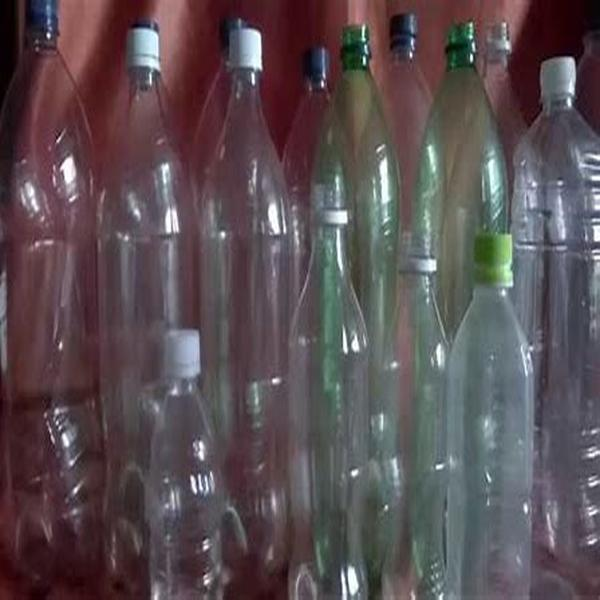tutuma: (274, 172, 379, 600), (438, 214, 544, 600), (103, 22, 190, 314), (142, 319, 229, 600)
